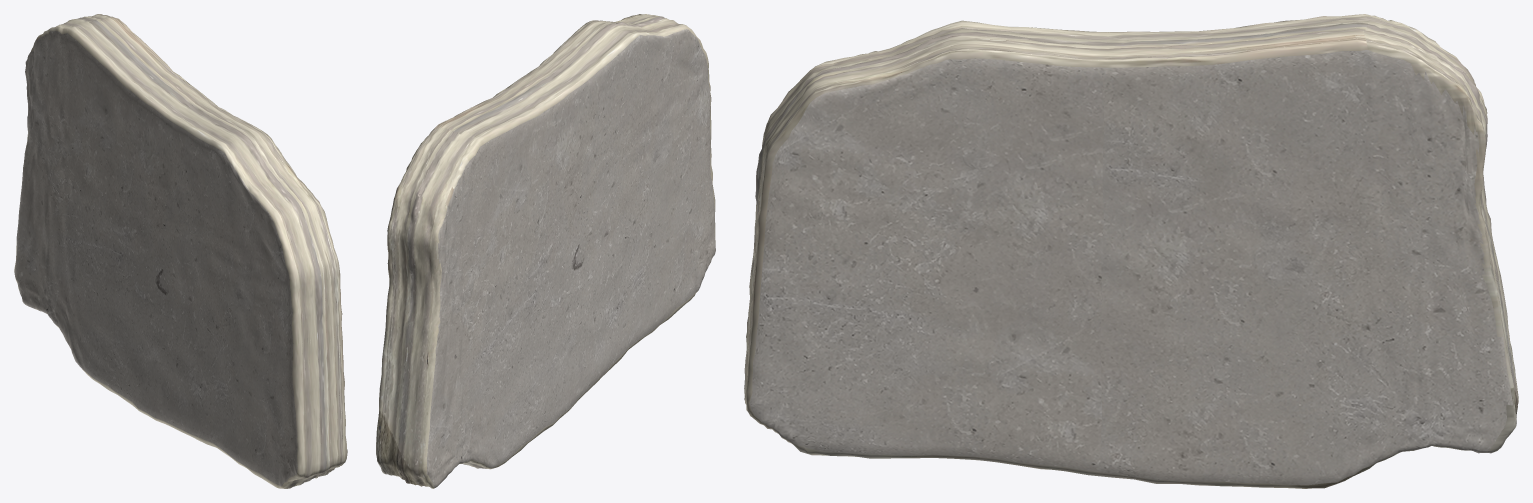
3 views of the same model, side by side, from view 1: azimuth 30°, elevation 25°; view 2: azimuth 150°, elevation 25°; view 3: azimuth 270°, elevation 25° (orthographic). The views are drawn at different scales.
Parts seen in each view (by area): view 1: Cube.001; view 2: Cube.001; view 3: Cube.001.
Boxes of the visible parts, x1,y1,x2,y2 form: Cube.001: (14,14,347,488); Cube.001: (376,14,715,488); Cube.001: (744,14,1518,488).
Bounding box in the file's own units: 0.167 × 1.03 × 1.59.
Materials: 1 (1 with a texture image).
